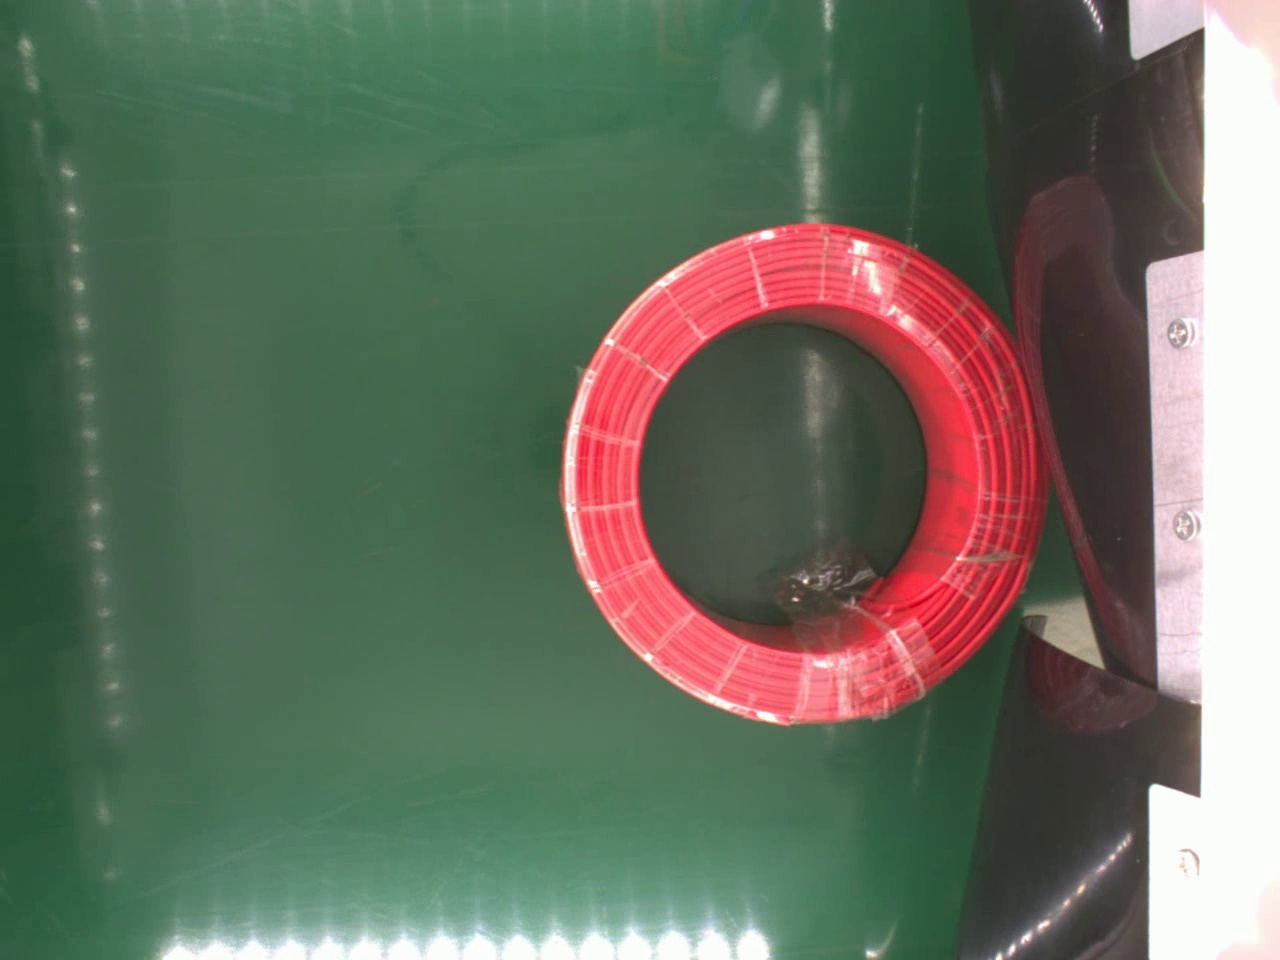red: (560, 219, 1051, 727)
